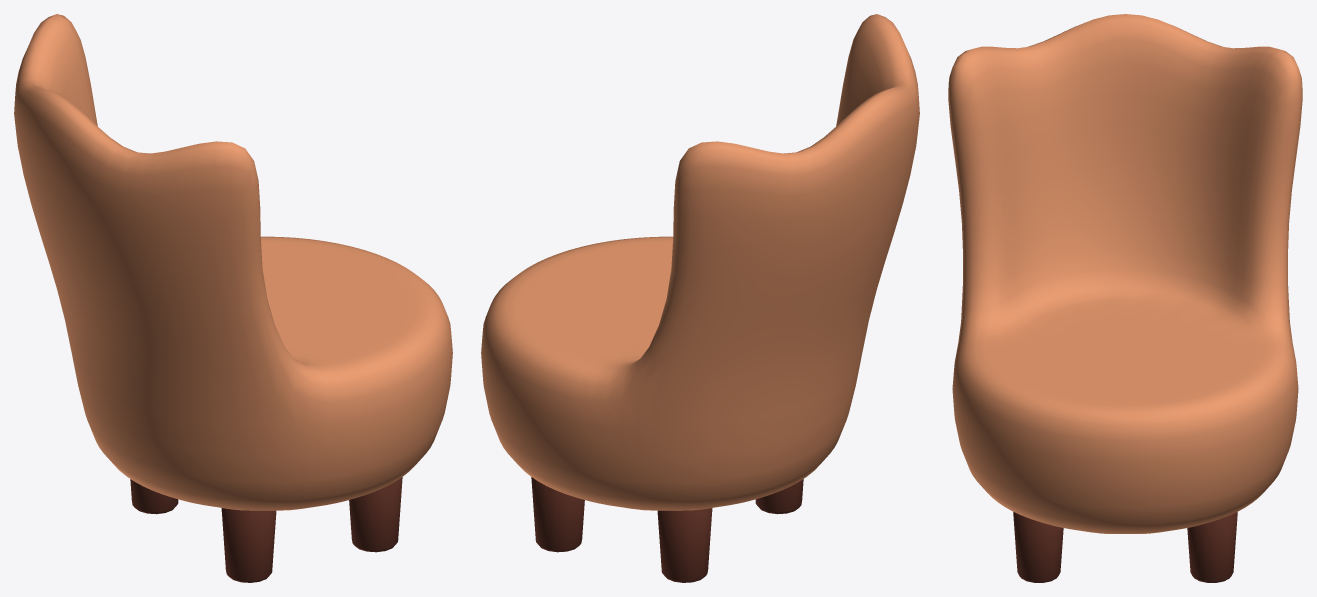
The model's file is chair.fbx.
The picture shows the model from 3 angles, left to right: view 1: azimuth 30°, elevation 25°; view 2: azimuth 150°, elevation 25°; view 3: azimuth 270°, elevation 25°; orthographic projection. The views are drawn at different scales.
Visible parts, largest first — view 1: Cylinder, Cylinder.001; view 2: Cylinder, Cylinder.001; view 3: Cylinder, Cylinder.001.
Part boxes in pixels (x1=…): Cylinder: x1=14, y1=14, x2=452, y2=510; Cylinder.001: x1=130, y1=477, x2=402, y2=582; Cylinder: x1=481, y1=14, x2=919, y2=510; Cylinder.001: x1=531, y1=477, x2=803, y2=582; Cylinder: x1=948, y1=14, x2=1302, y2=533; Cylinder.001: x1=1013, y1=512, x2=1237, y2=582.
Size of the model in its own units: 2.21 by 2.62 by 1.91.
